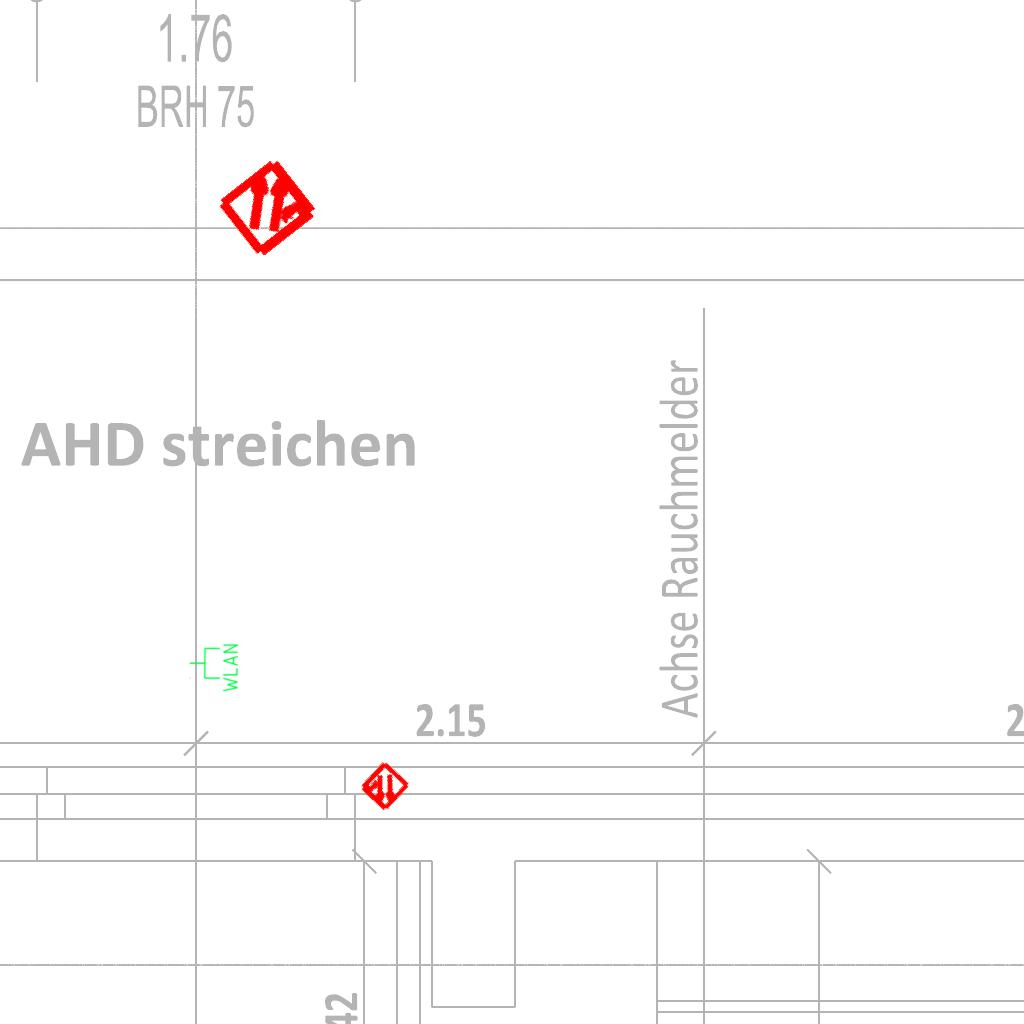OT_Multisensormelder_(Kombination_RMO_WMD): (190, 127, 349, 286), (344, 747, 424, 827)
WLAN: (188, 642, 240, 694)
